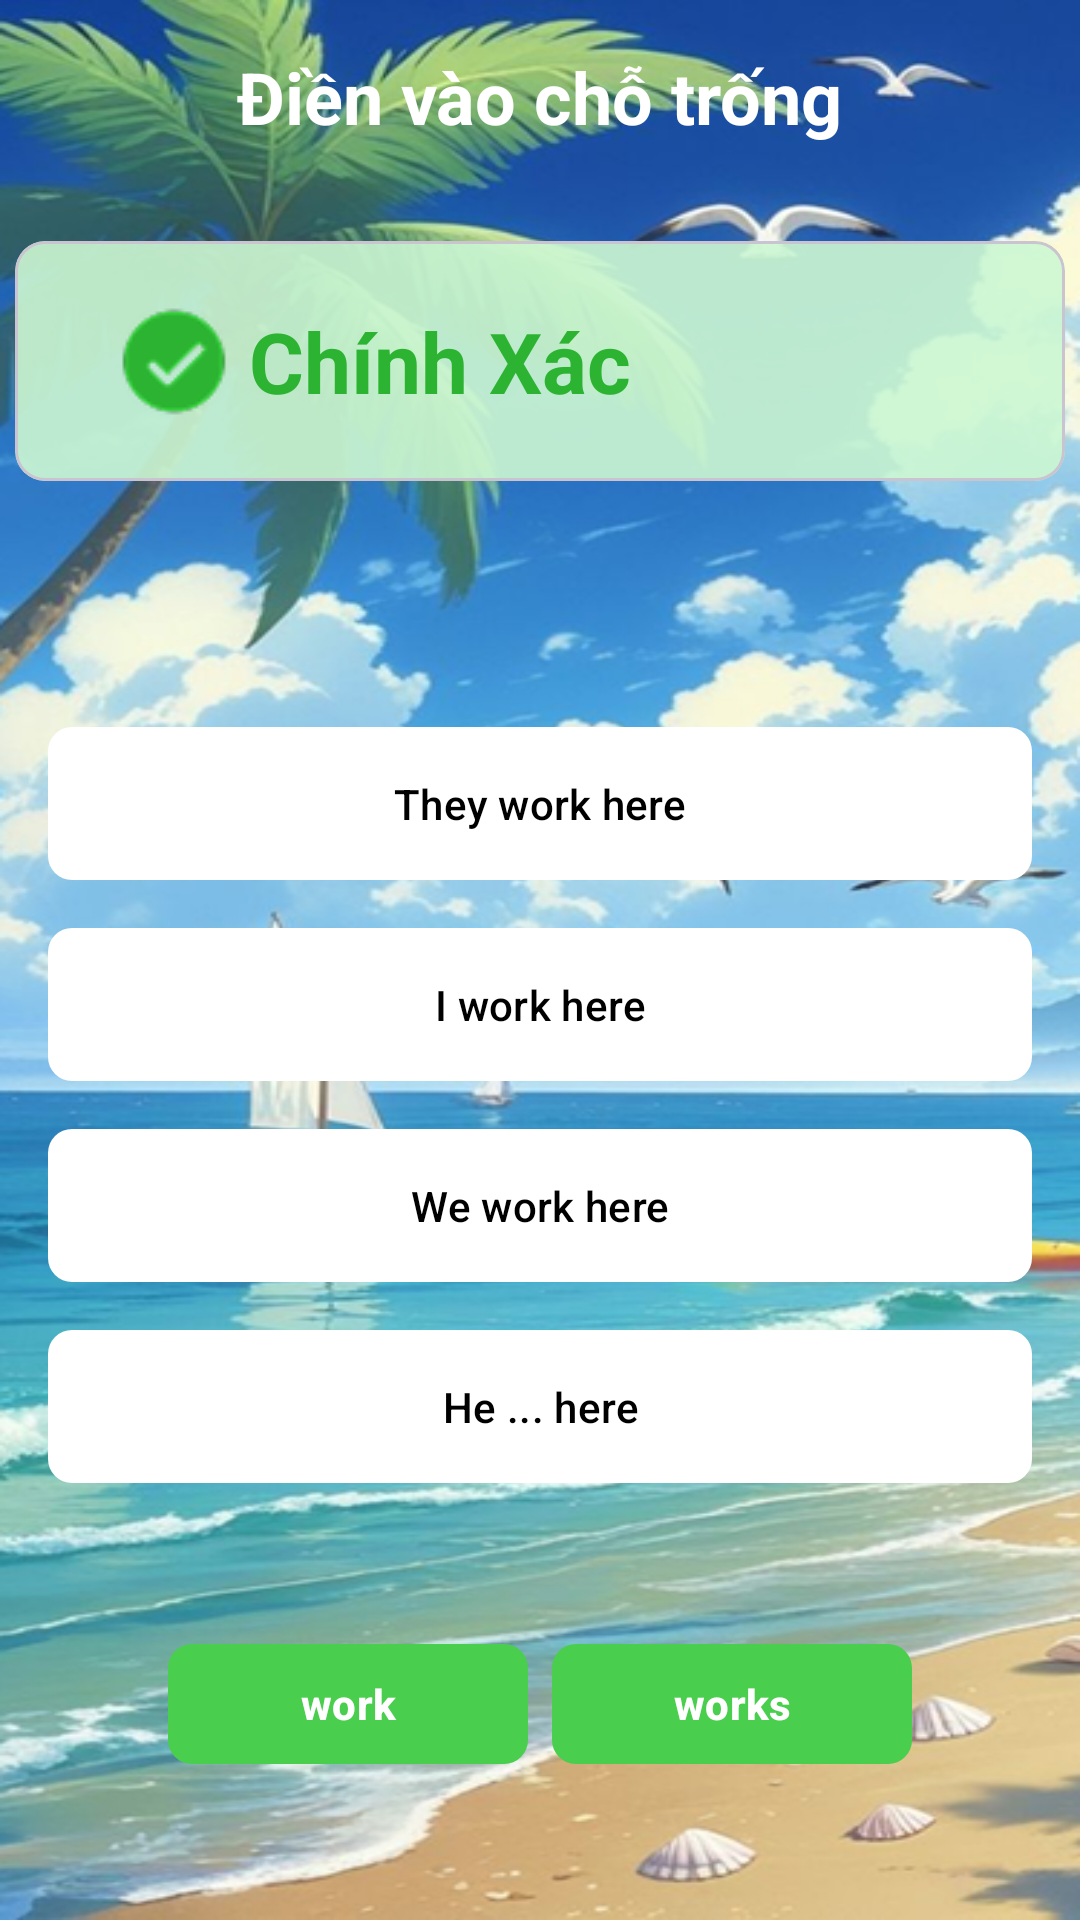

Locate icon controls on the screen. Image size 1080*1920, boxes as box=[x1, y1, x2, y2].
correct: box=[122, 309, 226, 414]
